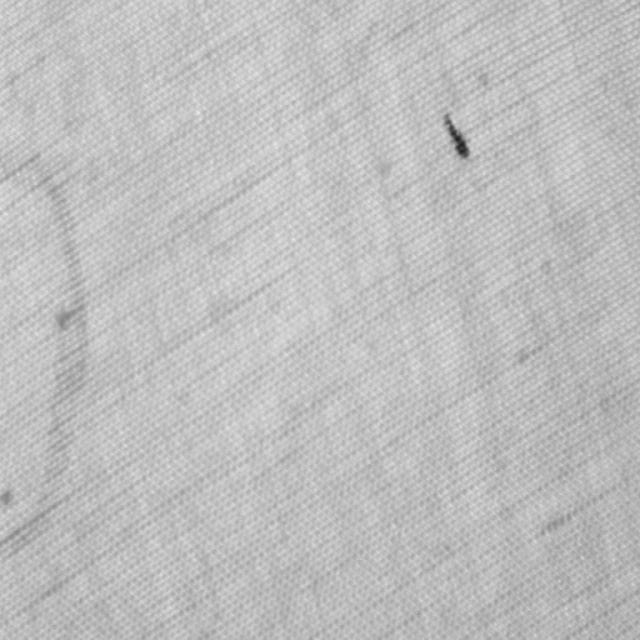oil spot: (0, 131, 92, 568), (440, 106, 472, 162)
